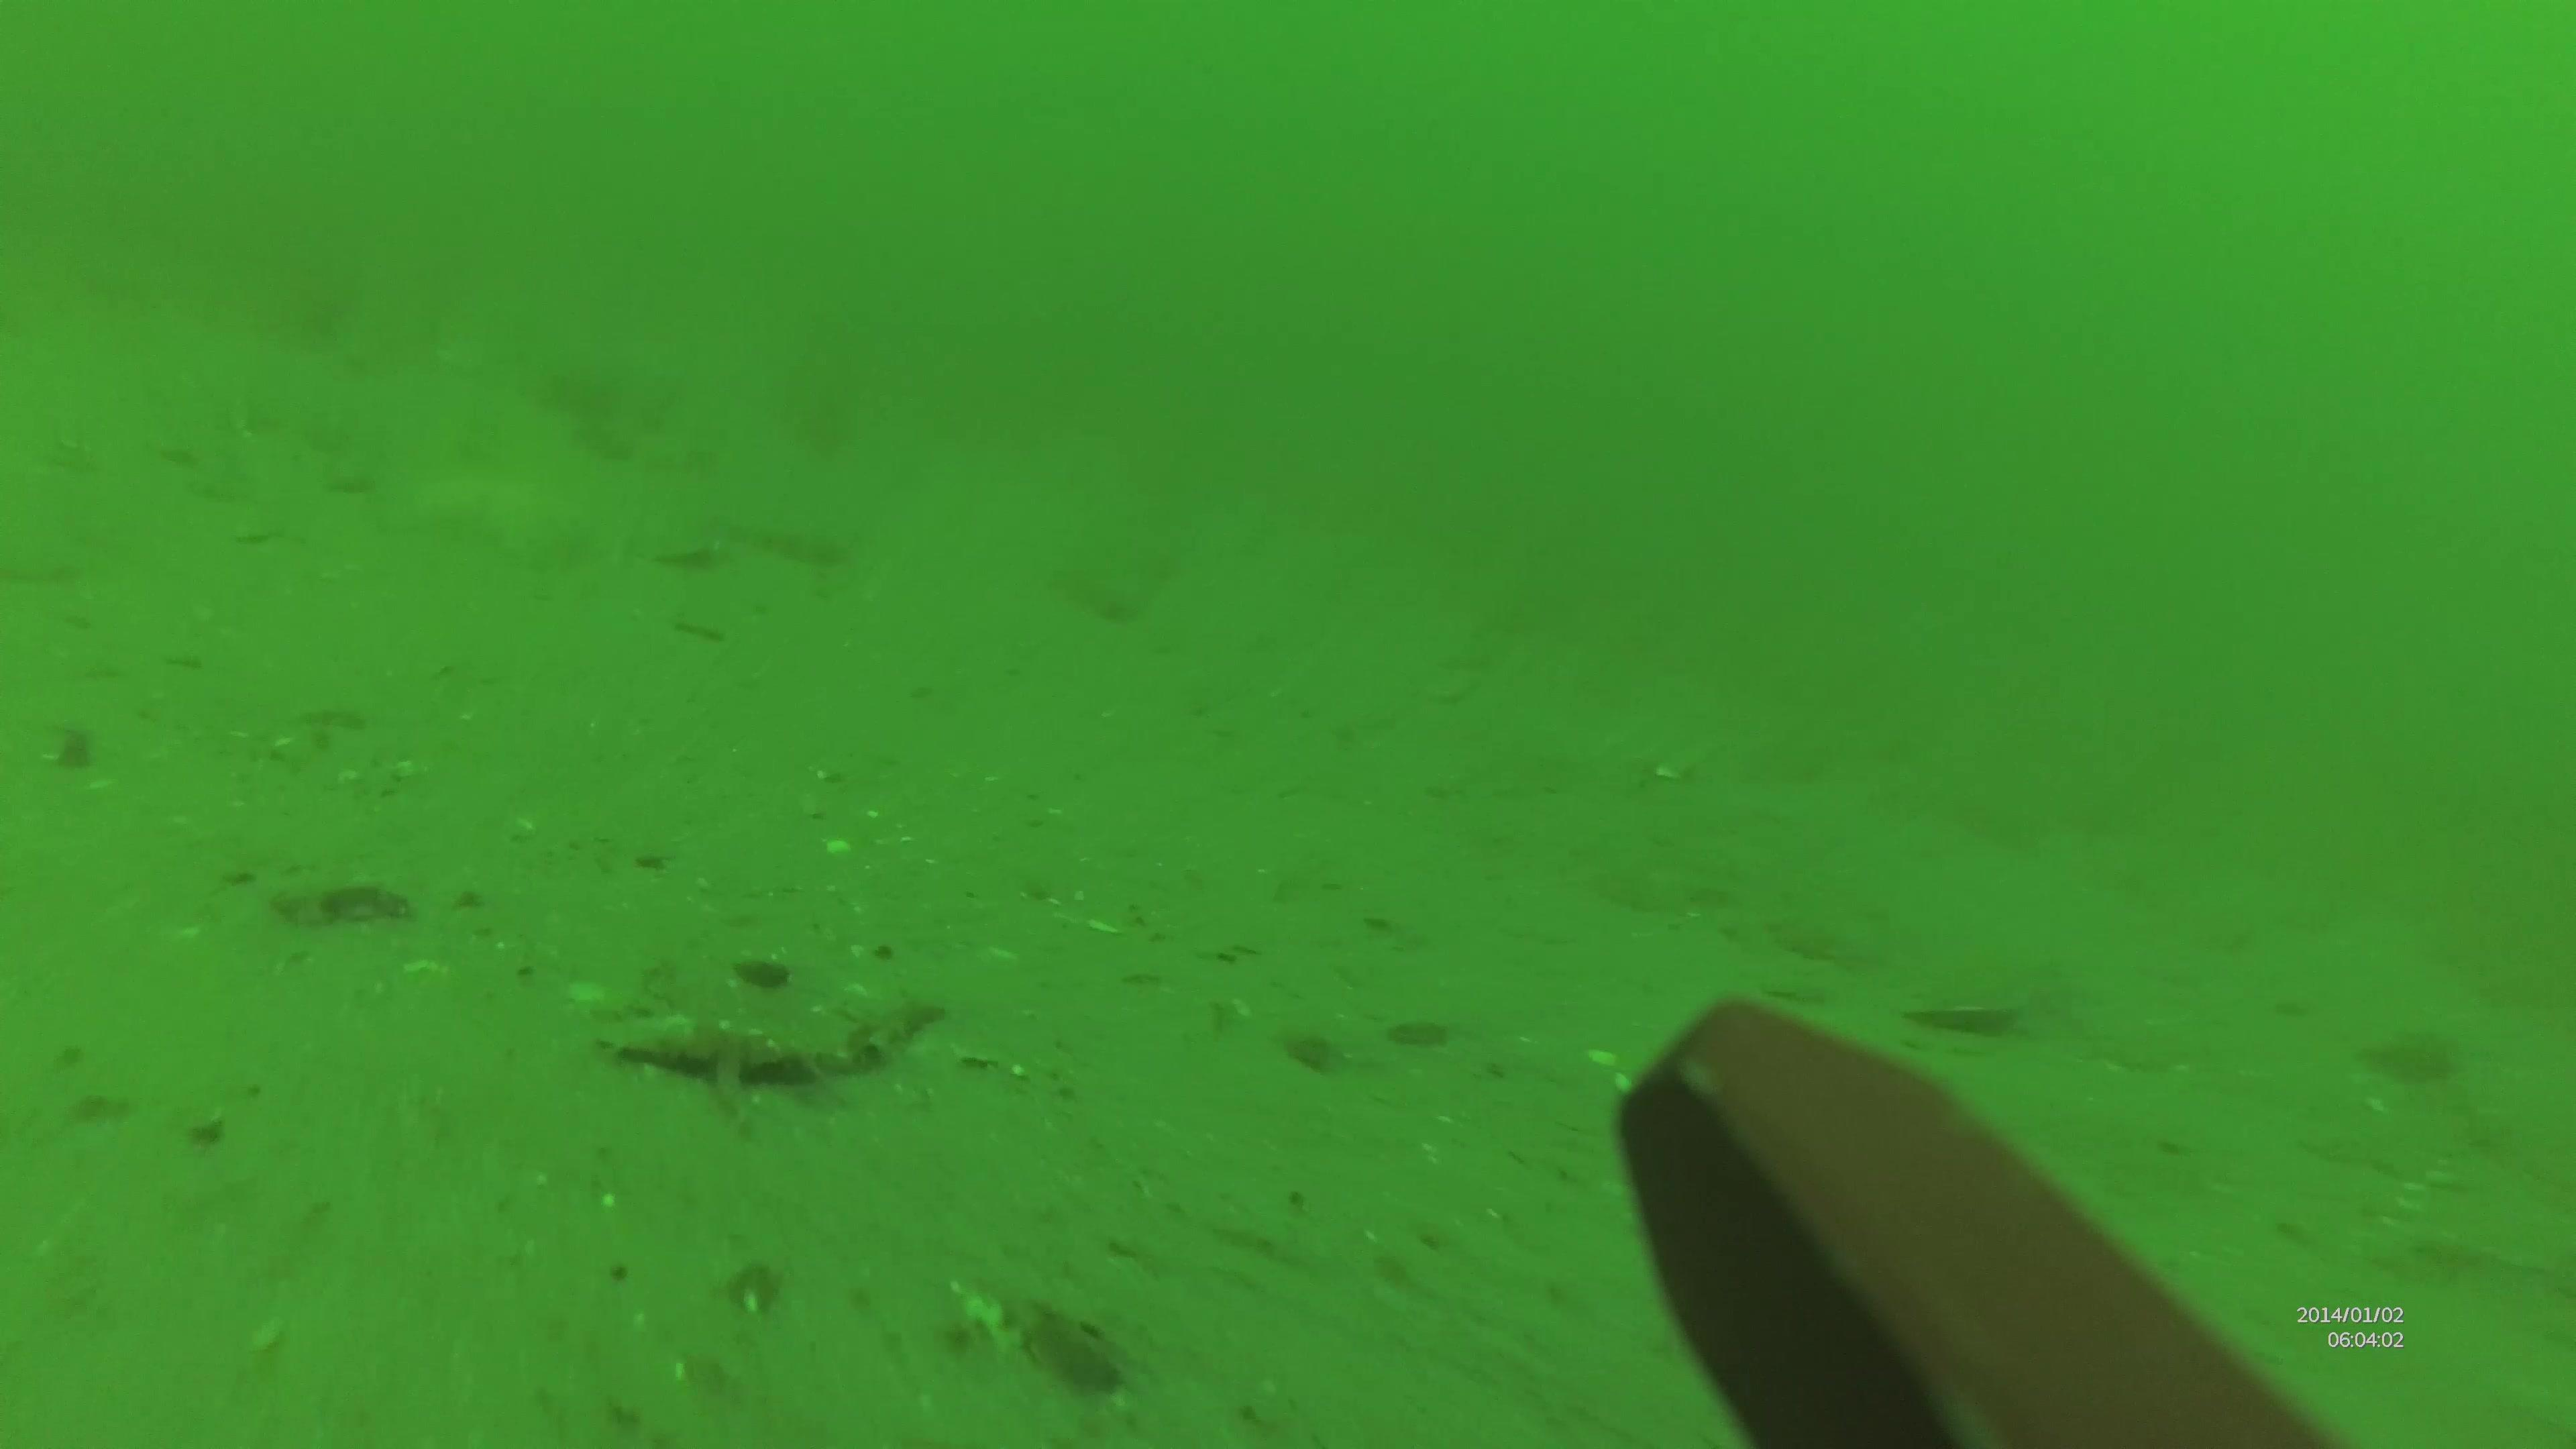starfish: (602, 947, 961, 1092)
